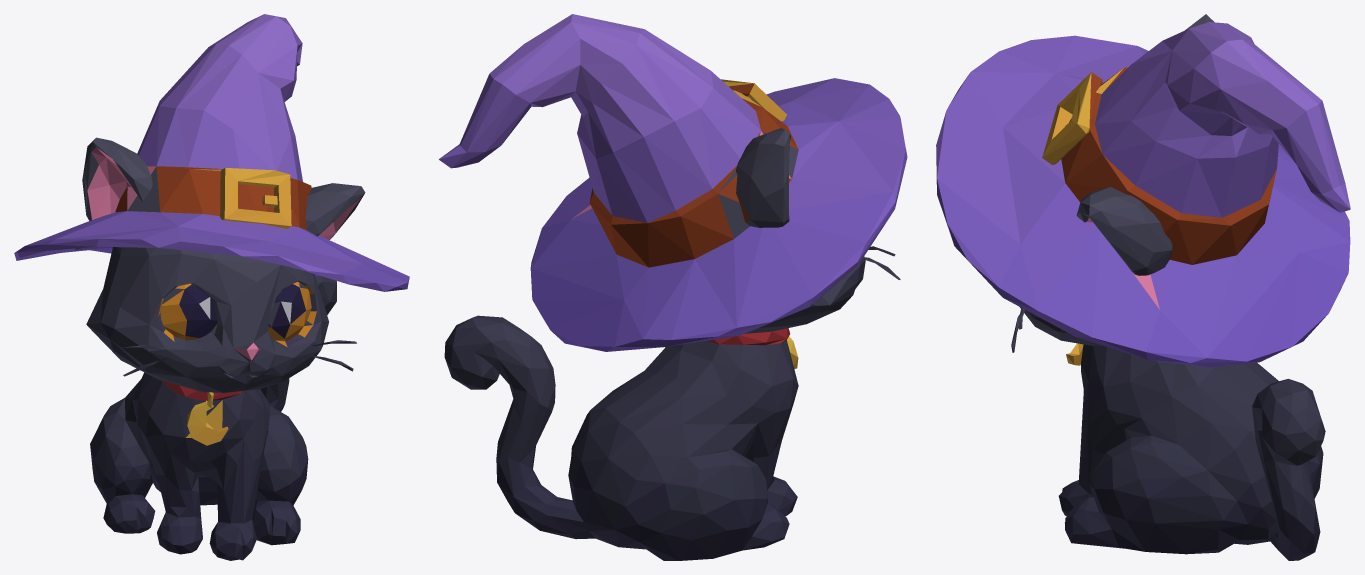
The model's file is EVHalloween_Decor_WitchHatProp.fbx.
The picture shows the model from 3 angles, left to right: view 1: azimuth 30°, elevation 25°; view 2: azimuth 150°, elevation 25°; view 3: azimuth 270°, elevation 25°; orthographic projection. The views are drawn at different scales.
Parts seen in each view (by area): view 1: EVHalloween_Decor_PumpkinOrange; view 2: EVHalloween_Decor_PumpkinOrange; view 3: EVHalloween_Decor_PumpkinOrange.
Part boxes in pixels (x1,y1,x2,y2): EVHalloween_Decor_PumpkinOrange: (14, 14, 409, 560); EVHalloween_Decor_PumpkinOrange: (439, 14, 907, 560); EVHalloween_Decor_PumpkinOrange: (936, 14, 1350, 560).
Size of the model in its own units: 54.98 by 70 by 49.37.
